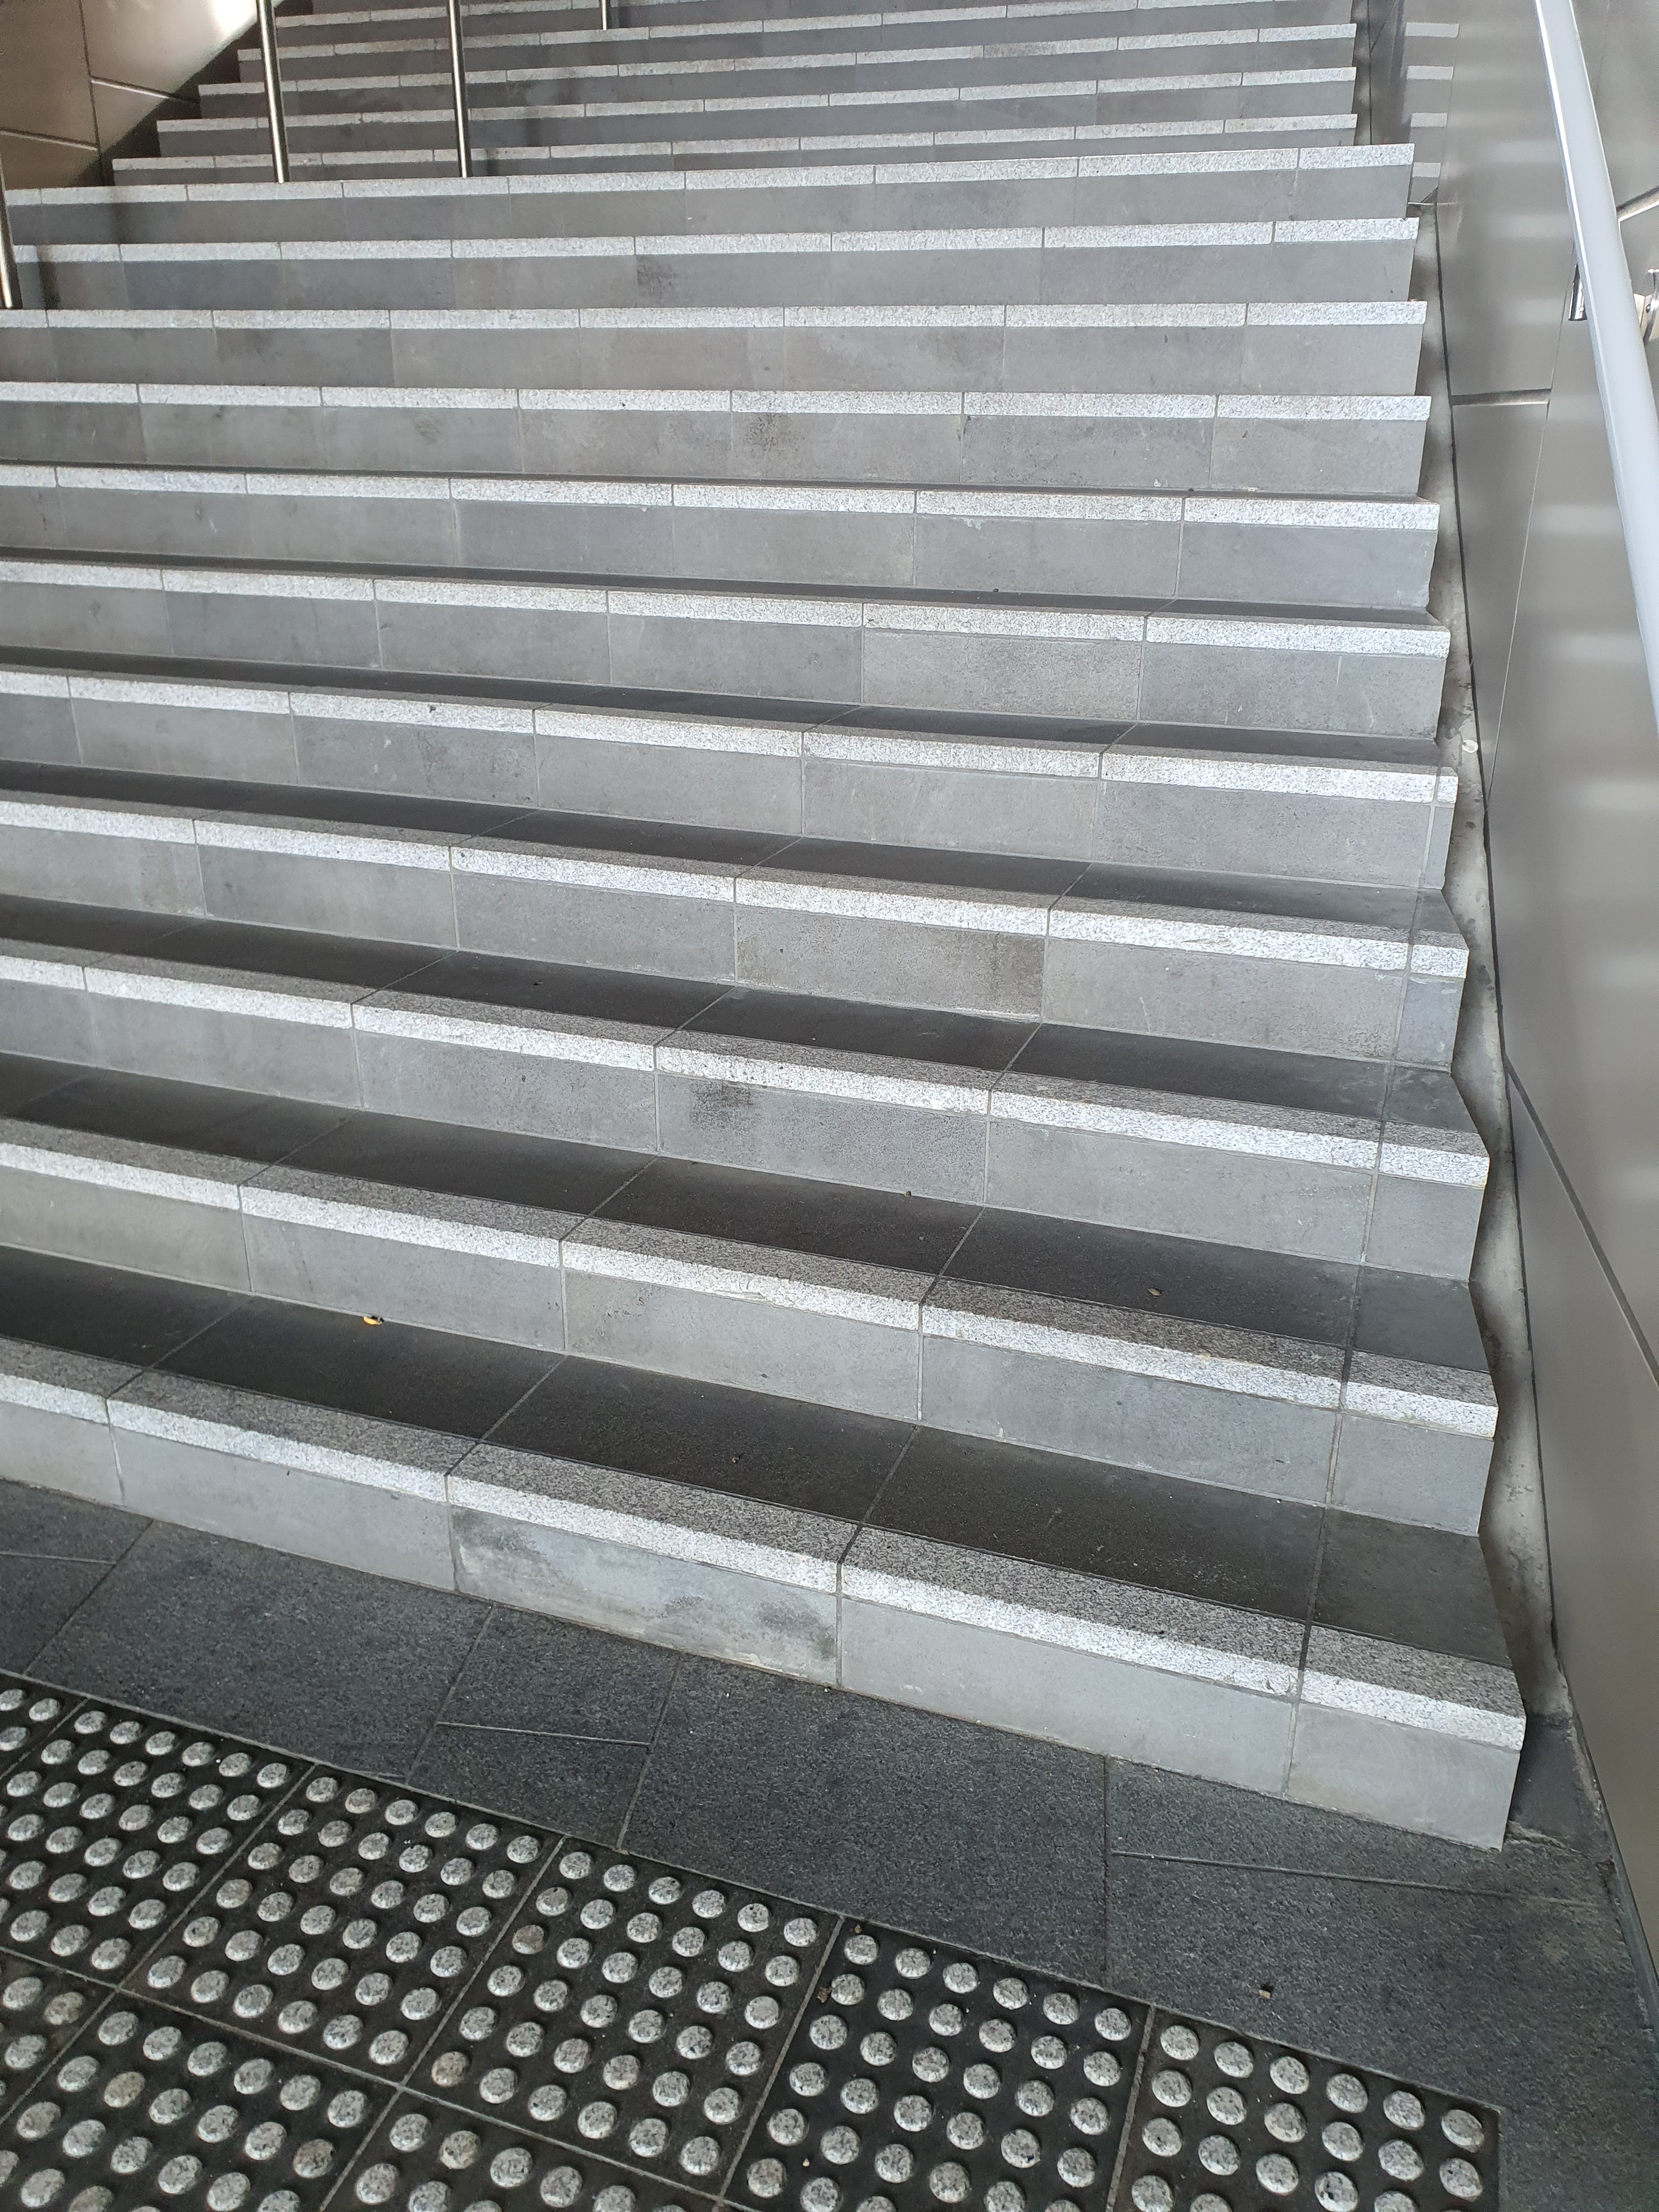upstairs: (0, 827, 1464, 2010)
